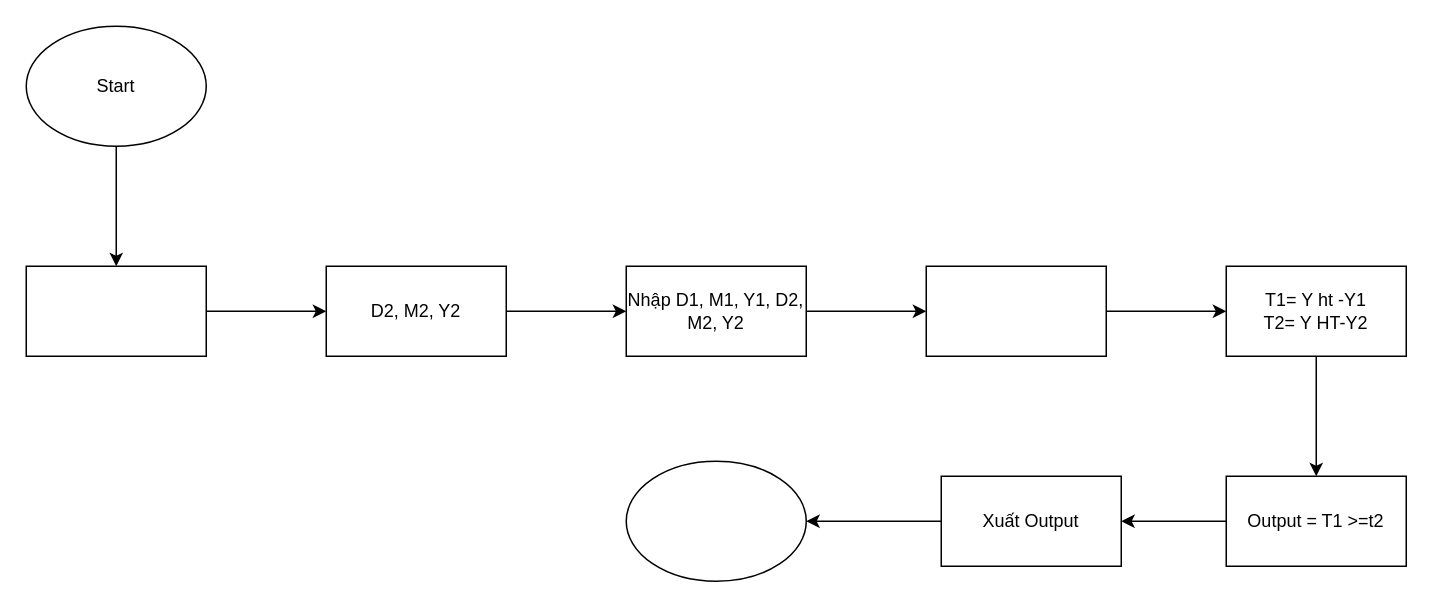
This 1433x608 diagram has some shape labels left out. Each missing label, with the box of its shape:
D1, M1, Y1: (25, 265, 206, 356)
End: (625, 460, 806, 581)
Lấy D, M,Y hiện tại: (925, 265, 1106, 356)
